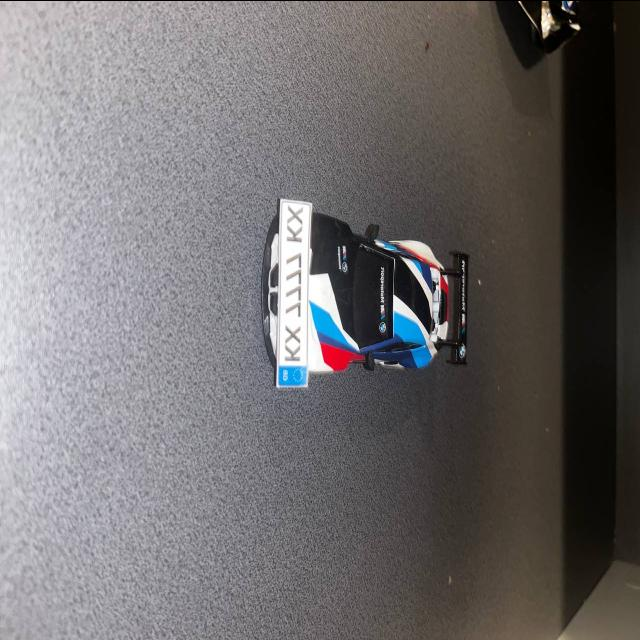cars: (253, 196, 479, 392)
